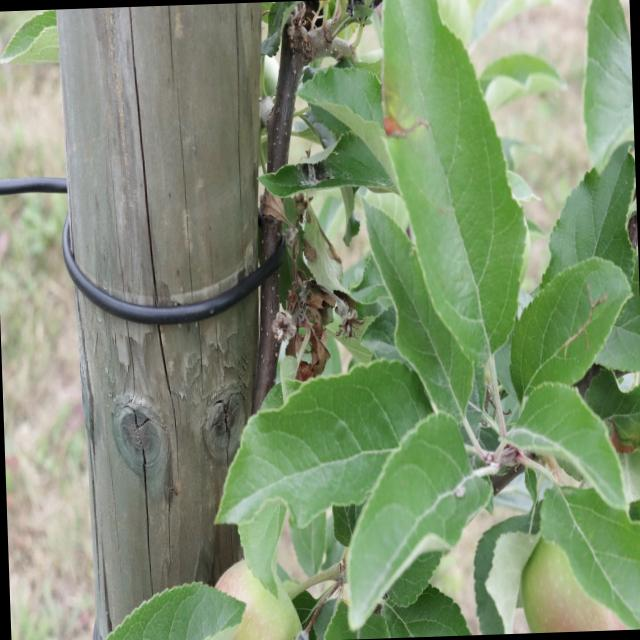-FireBlight-: (255, 196, 347, 392)
